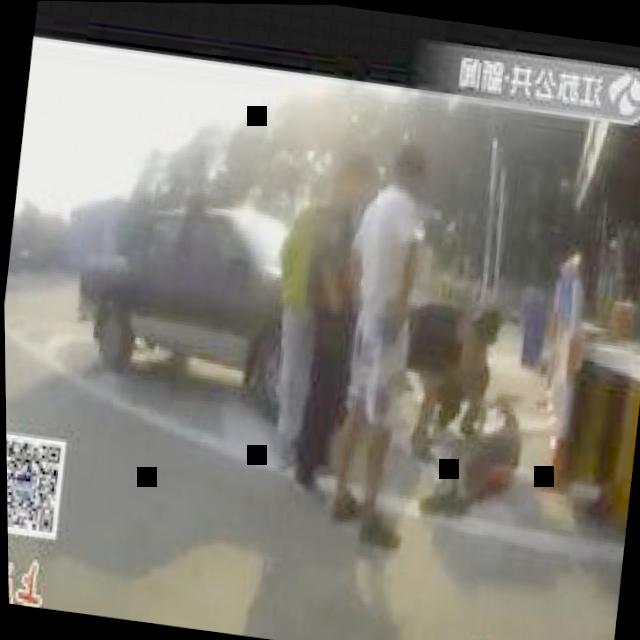Fall-Detected: (419, 374, 540, 532)
